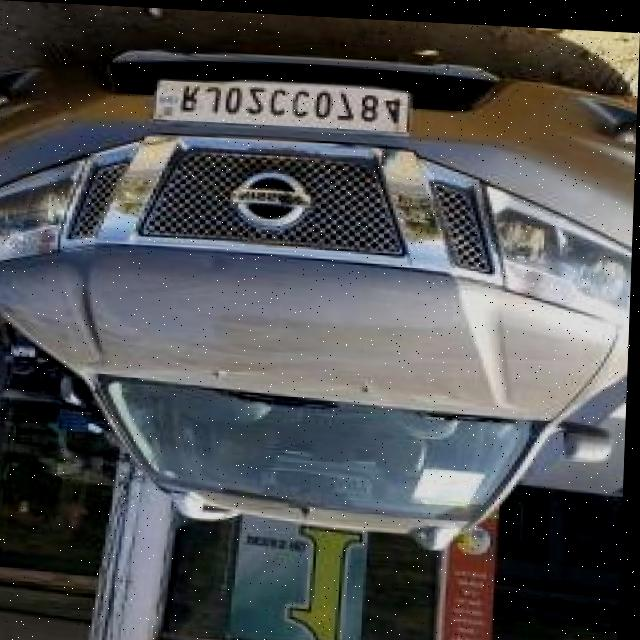plate: (154, 77, 411, 129)
